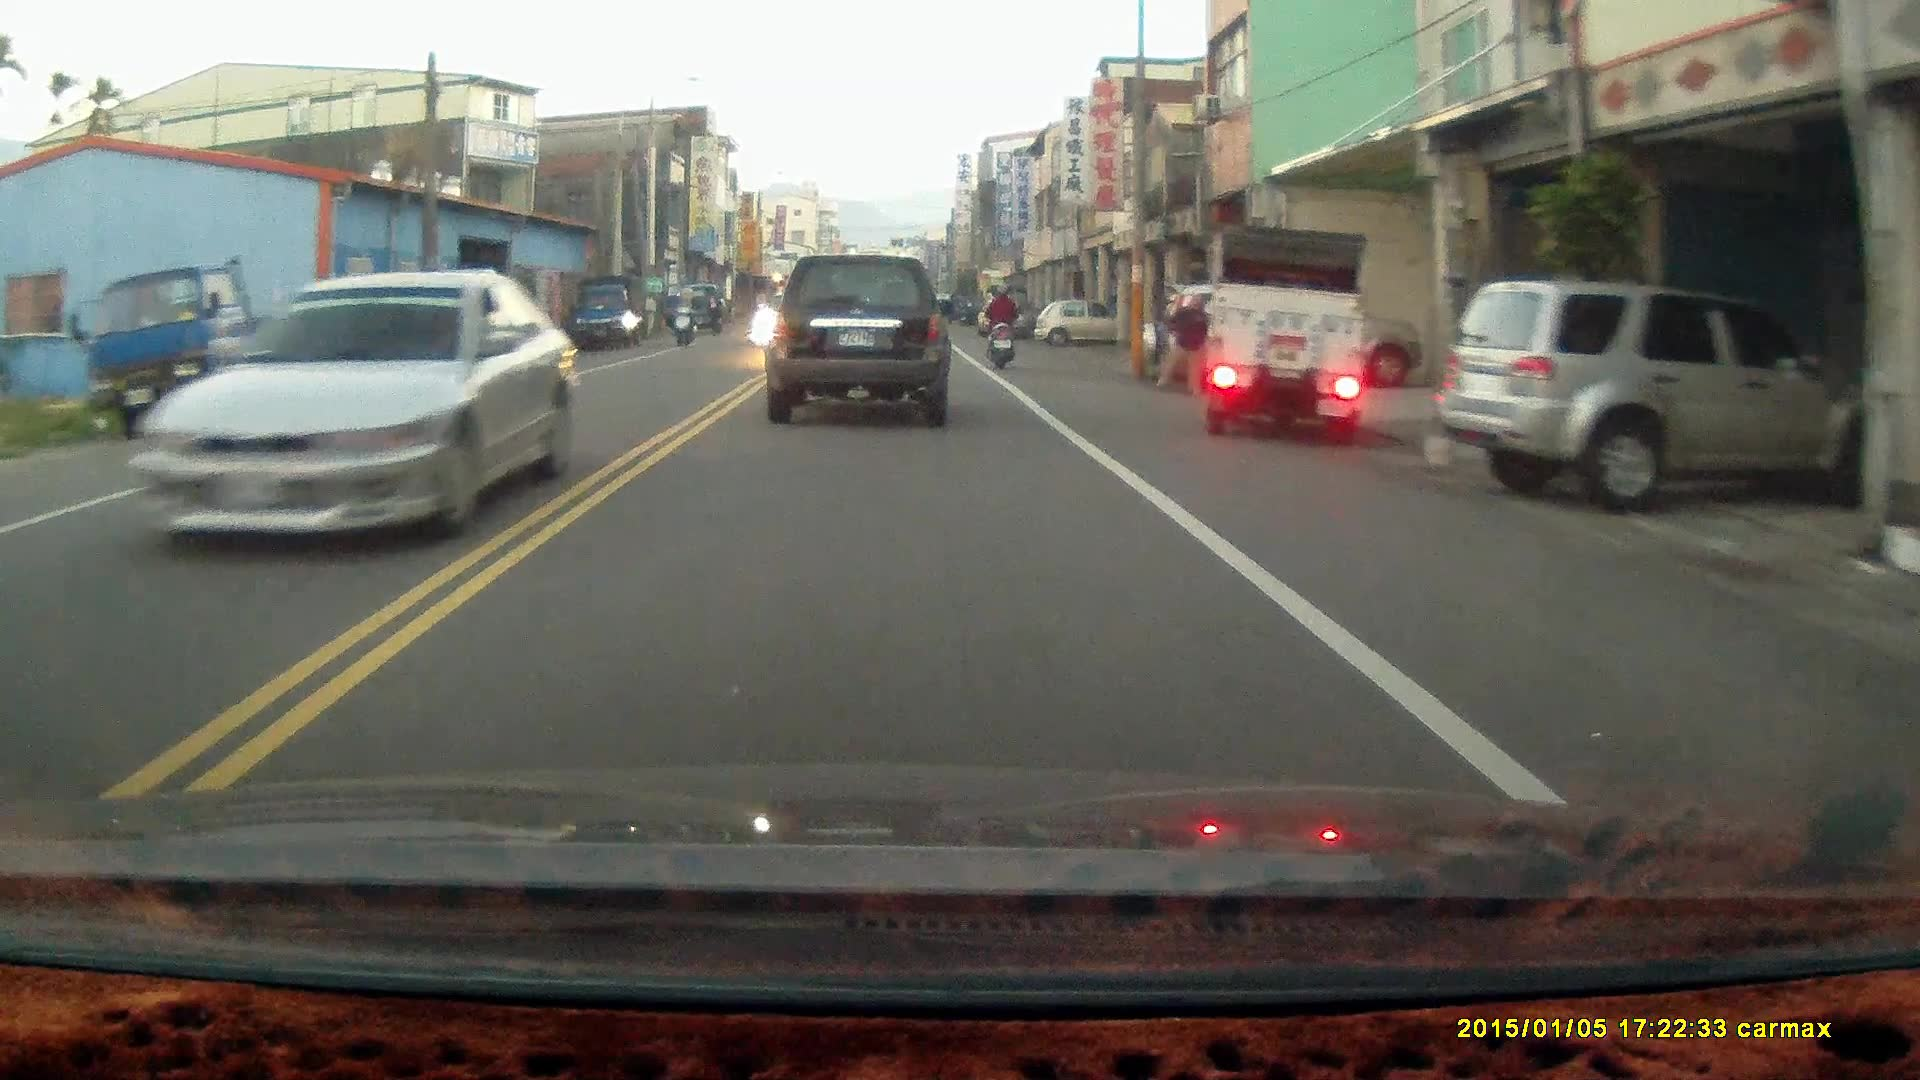pedestrian: (1152, 292, 1207, 397), (704, 288, 724, 336)
rider: (981, 280, 1017, 369), (668, 276, 701, 347)
vehicle: (132, 268, 573, 558), (1446, 279, 1883, 506), (100, 255, 330, 430), (1199, 226, 1371, 442), (1135, 277, 1425, 396), (766, 251, 954, 427), (1039, 301, 1117, 354)
